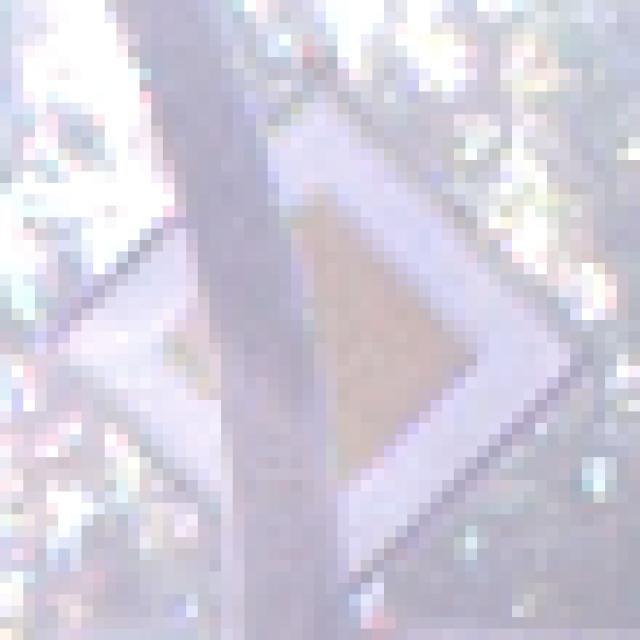Main Road: (59, 69, 583, 584)
